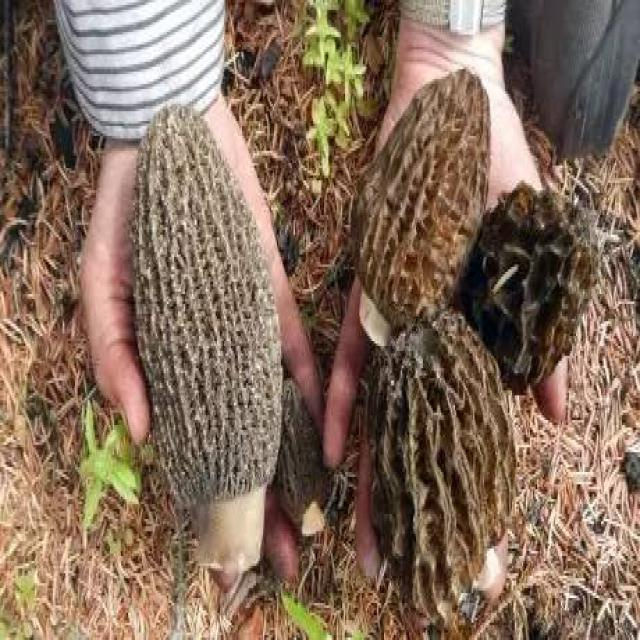Morchella esculenta: (131, 109, 285, 569), (369, 326, 520, 611), (352, 73, 489, 346), (467, 182, 588, 393)
